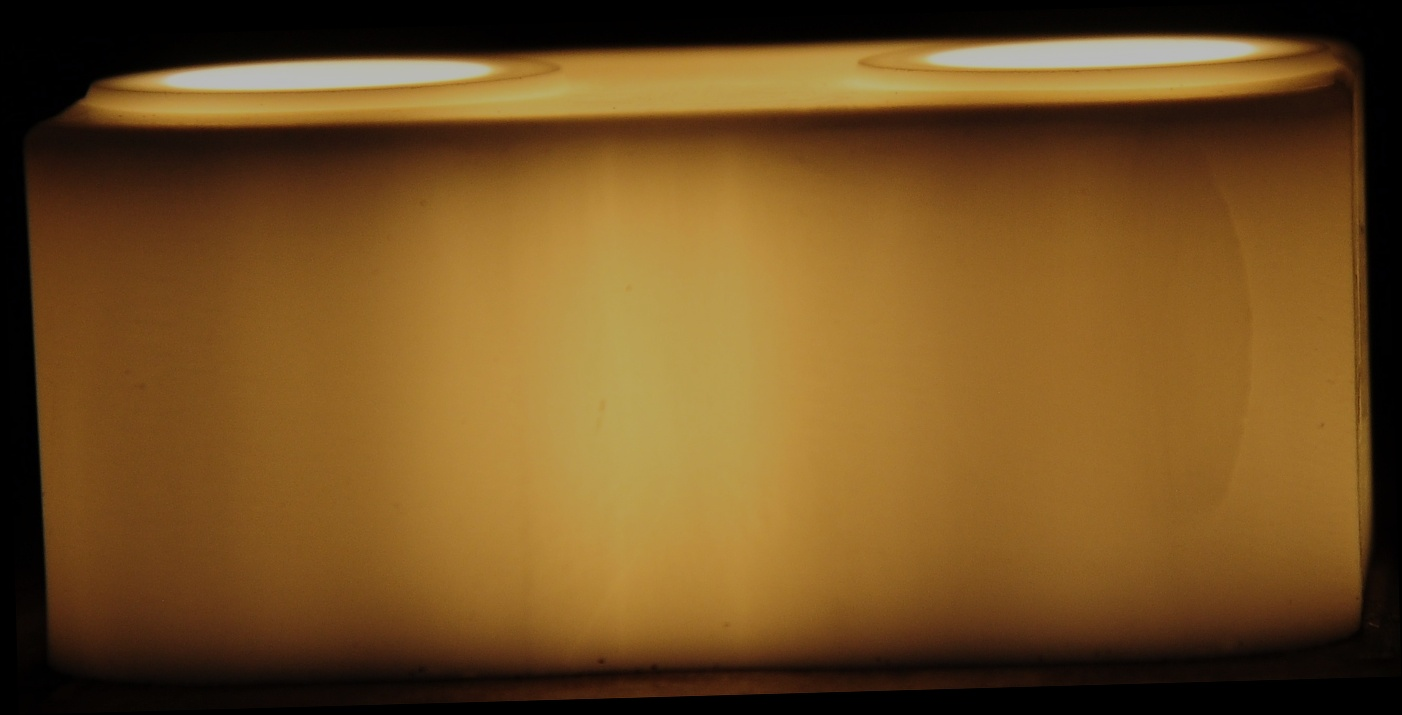flaw: (1175, 124, 1266, 551)
